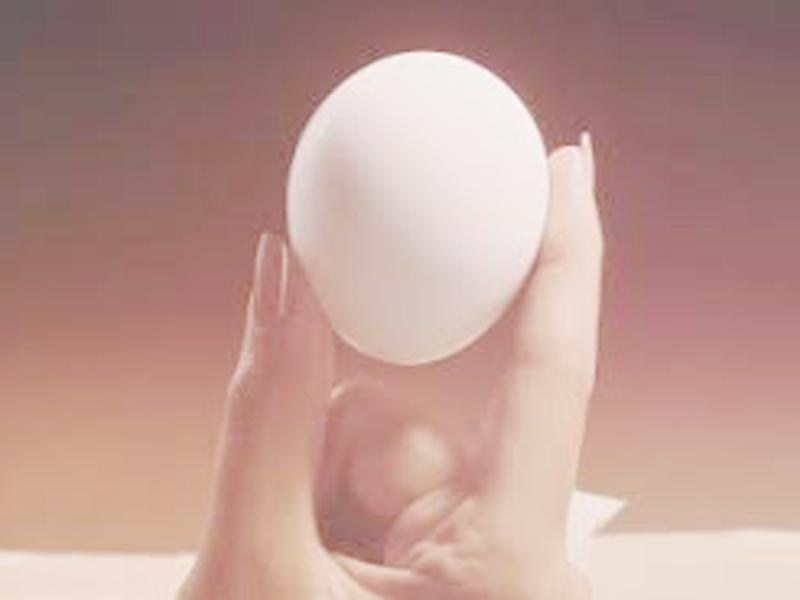Eggs: (285, 50, 552, 366)
